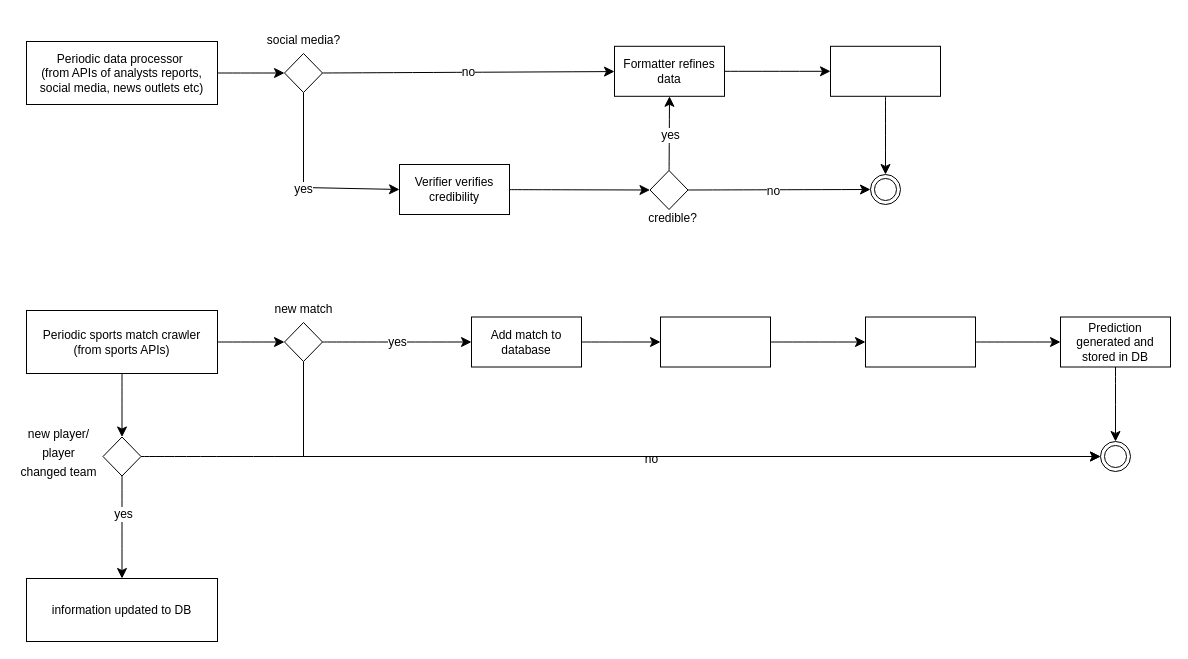
Image size: 1188x659. Some labels were removed from this diagram. Here are the shapes that lost their labels. From the top down, the centre of each, then its label:
At point (885, 70): "Data stored in DB".
At point (715, 341): "Prediction job triggered".
At point (920, 341): "Relevant data source filtered".
